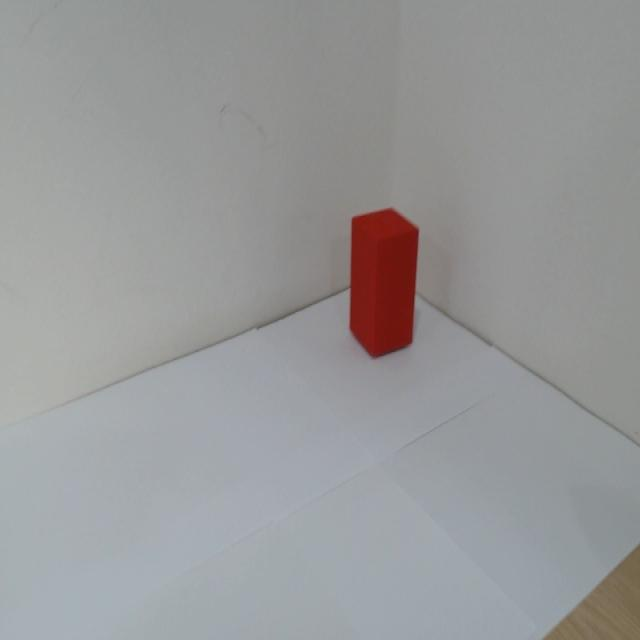cube: (342, 204, 422, 365)
